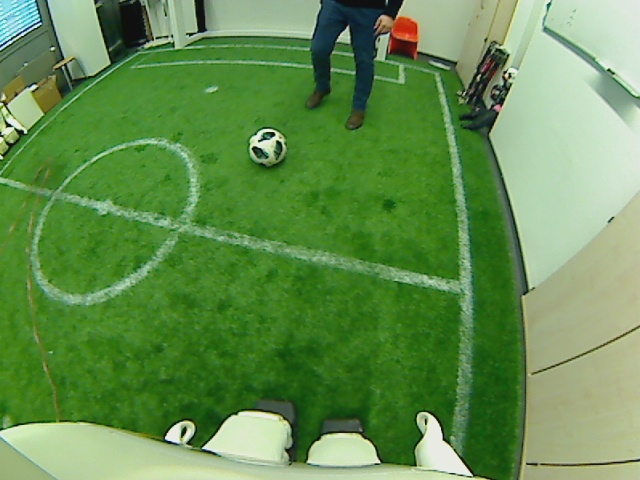ball: (246, 126, 287, 167)
